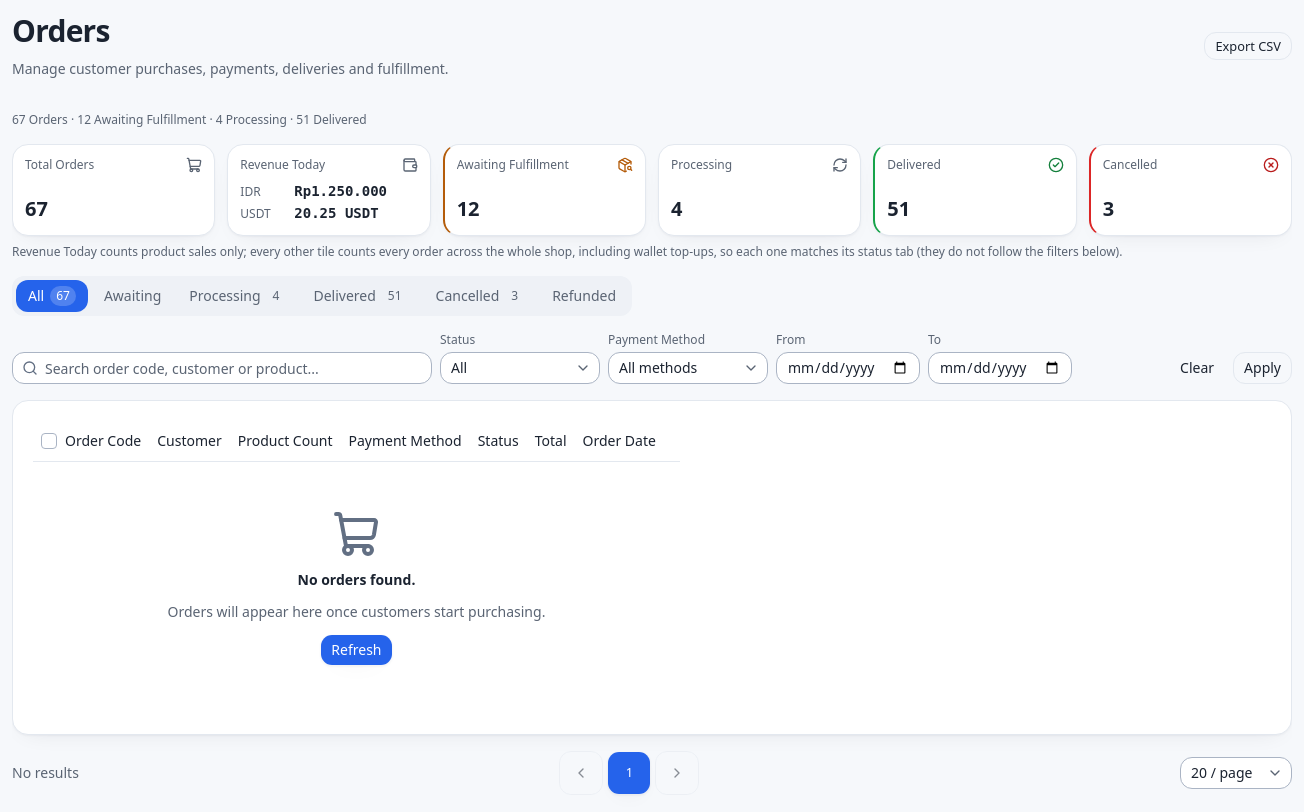
OrdersPage › shows Clear Filters in the empty state once a status tab narrows the view
Expected: the text "No orders found." is shown, [298,570,415,590]
Click the button "Delivered 51". click: click(361, 296)
box: [302,280,420,312]
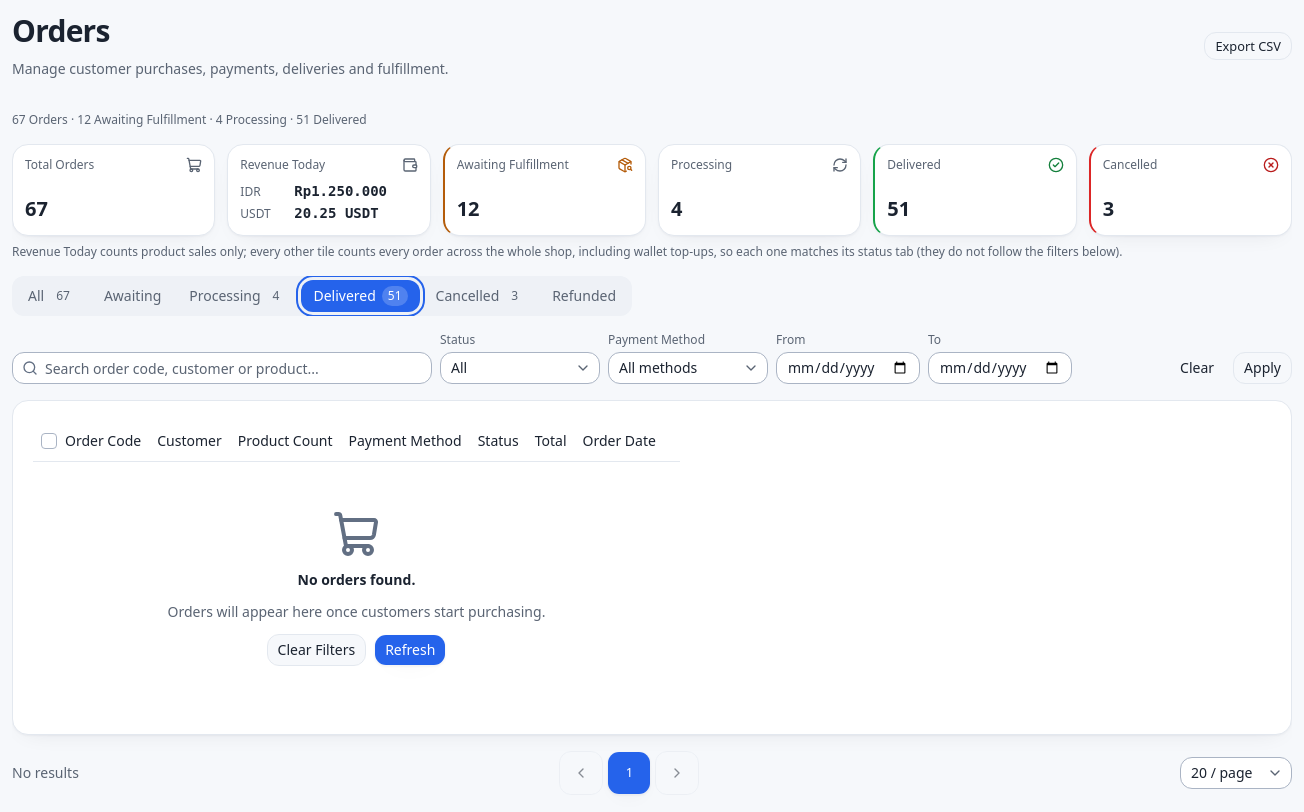
Now the button "Clear Filters" is shown, box [267,634,366,666]
